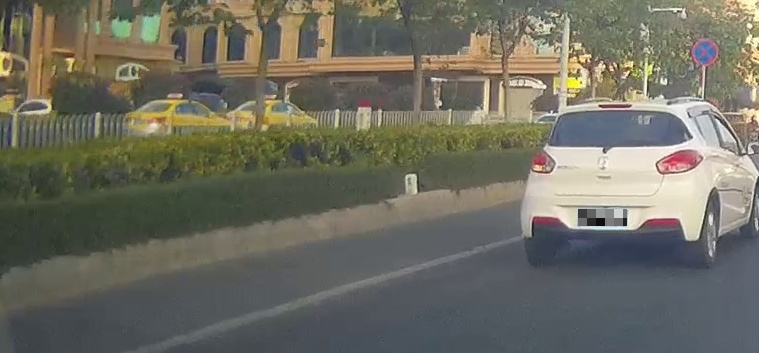L_light: (529, 148, 555, 173)
R_light: (655, 148, 703, 174)
T_light: (598, 103, 631, 108)
day-left: (519, 102, 705, 268)
plate_1: (578, 209, 627, 226)
